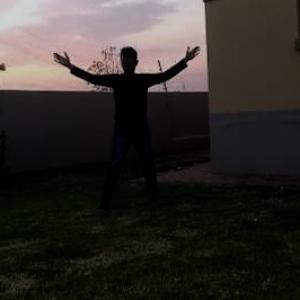takeoff: (30, 20, 188, 206)
